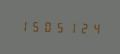five: (29, 18, 40, 33), (53, 19, 64, 34)
four: (89, 21, 100, 35)
one: (17, 18, 28, 32), (65, 20, 76, 34)
two: (77, 20, 88, 35)
zero: (41, 19, 52, 33)
